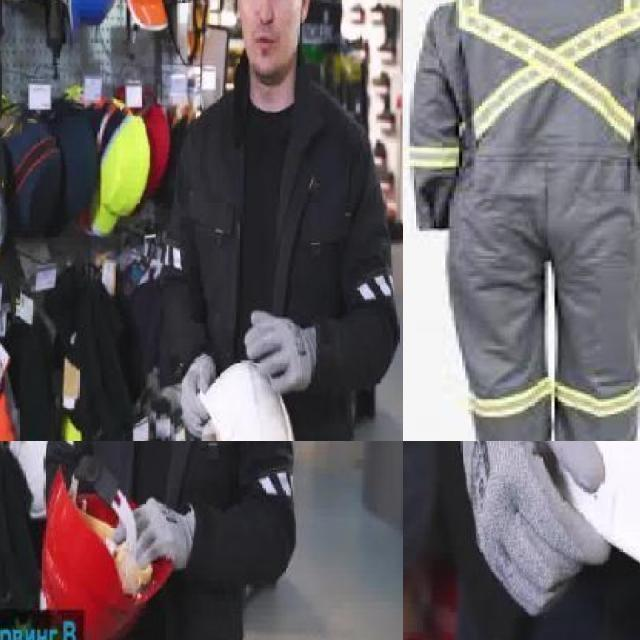apron: (459, 441, 610, 625), (243, 306, 320, 396), (114, 492, 190, 576), (180, 354, 216, 434)
